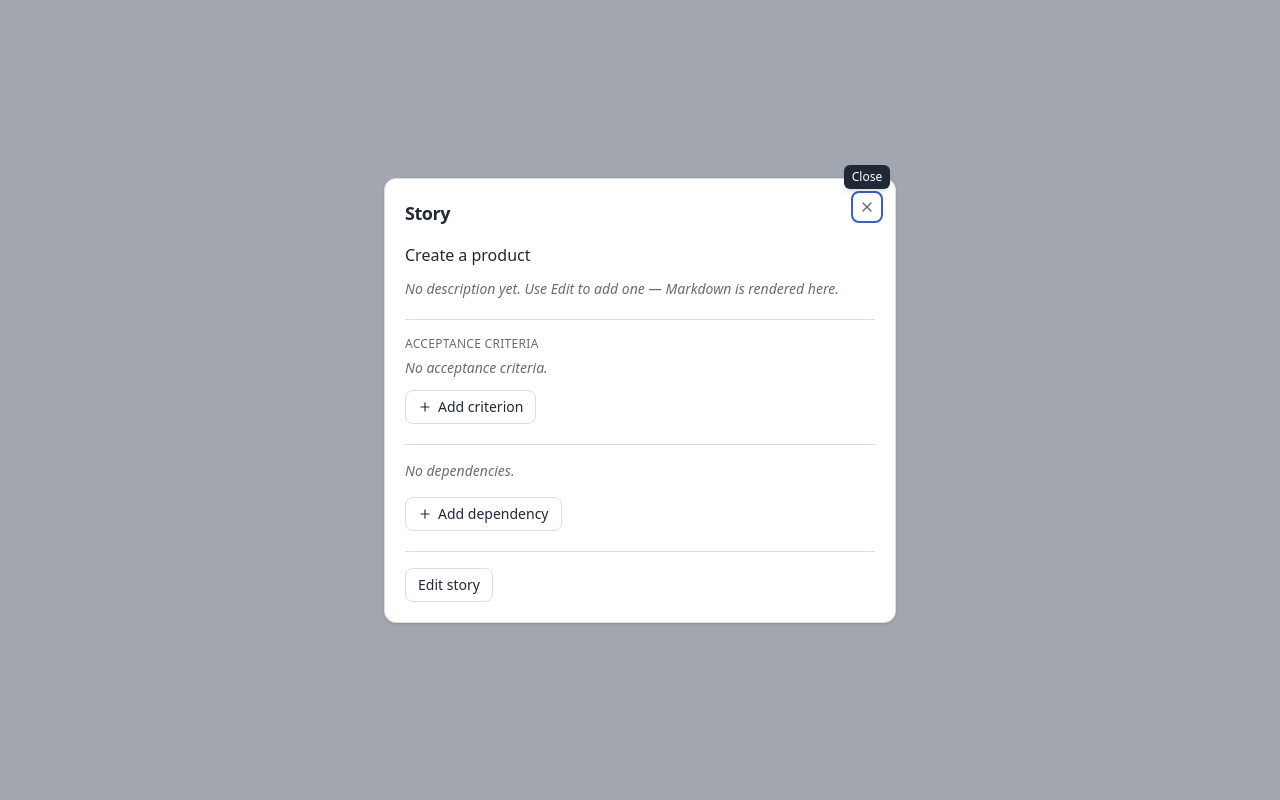
Test: actionError › viewStory dependencies › narrows the candidates as the query changes, and says how many it hides
Step 1. Click the button "Add dependency" → click(483, 514), box 405,496 -> 562,530
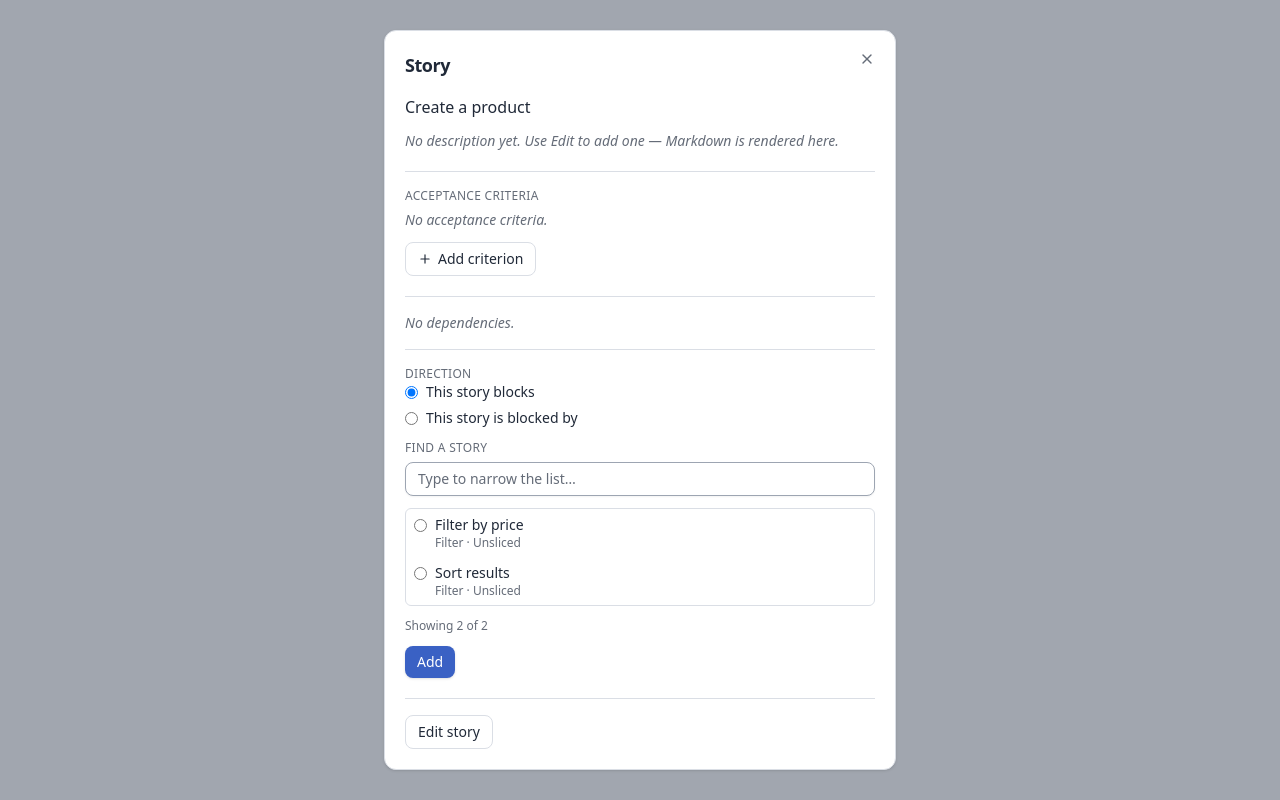
Step 2. Type "Sort" into the search field → (640, 479), box 405,462 -> 875,496
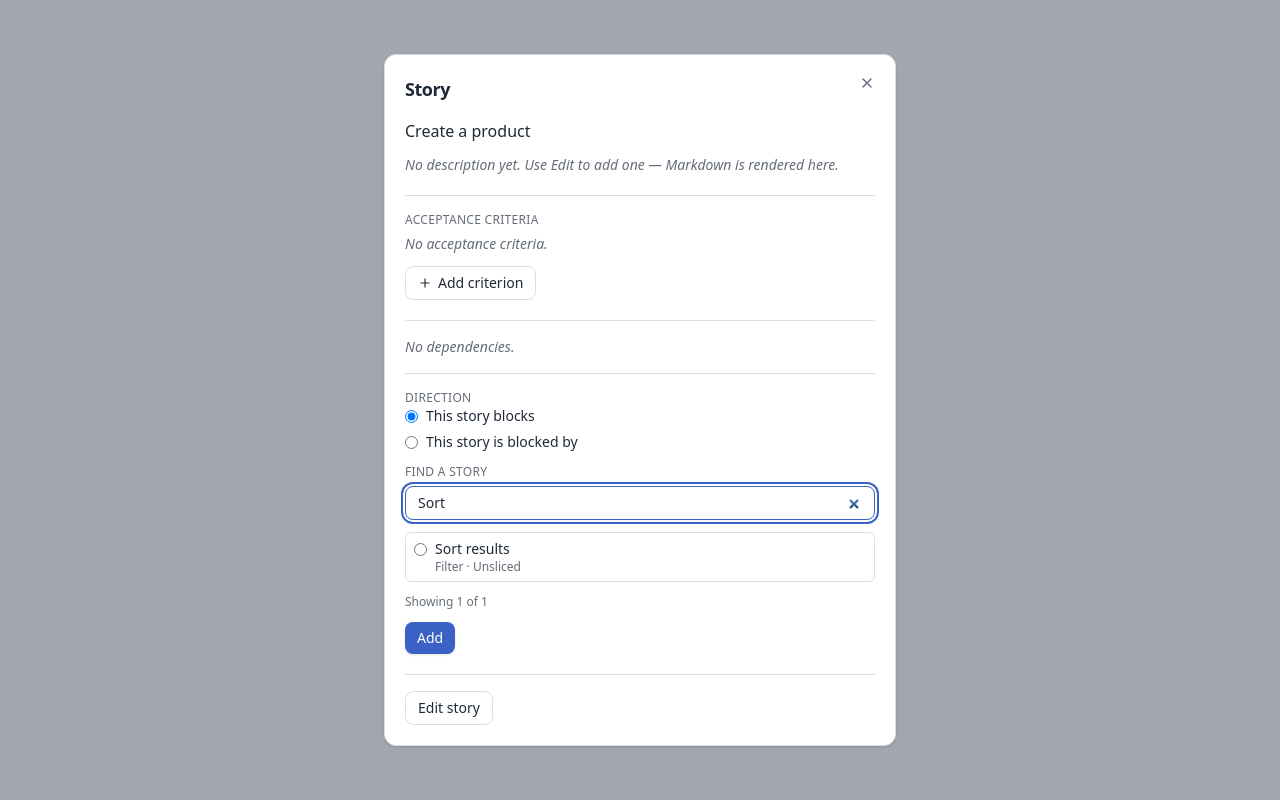
Expected: the text with test id "candidate-count" shows "1 of 1", 405,593 -> 488,610
